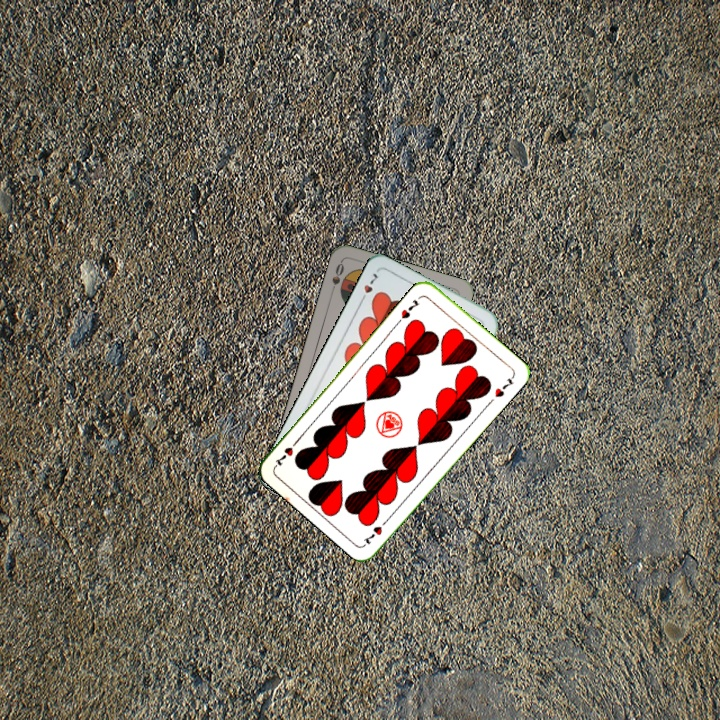H7: (359, 514, 392, 547), (356, 269, 381, 305), (397, 295, 423, 322)
SO: (326, 258, 347, 298)
